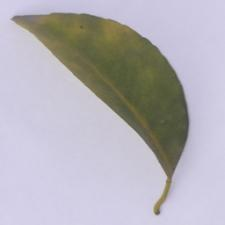Greening: (18, 9, 194, 174)
